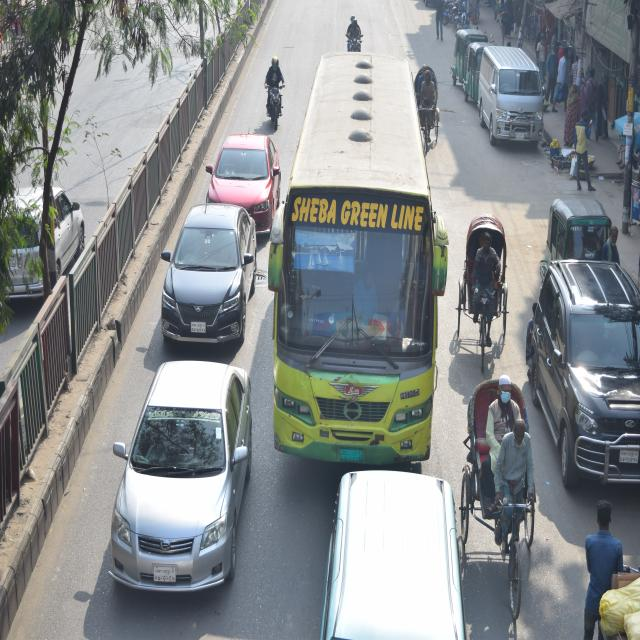bus: (274, 47, 441, 470)
car: (112, 356, 258, 618), (527, 255, 640, 484), (0, 170, 86, 333), (156, 204, 254, 340), (208, 129, 282, 215)
microbus: (309, 462, 466, 640), (477, 44, 542, 154)
motorbike: (259, 63, 286, 128), (342, 21, 366, 60), (442, 0, 466, 22)
